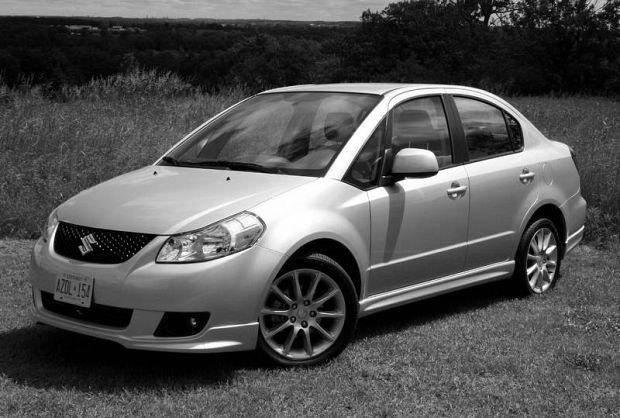car: (30, 83, 590, 374)
